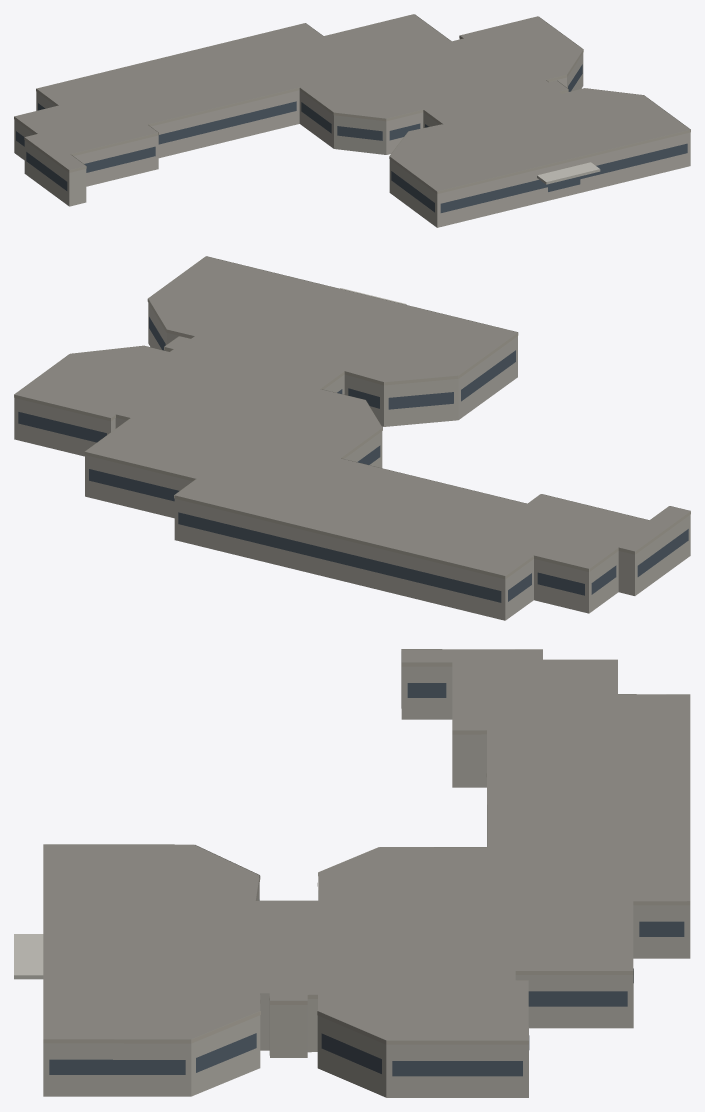
File: institutional-nlr-bo225177098.glb
The picture shows the model from 3 angles, top to bottom: view 1: azimuth 30°, elevation 25°; view 2: azimuth 150°, elevation 25°; view 3: azimuth 270°, elevation 25°; orthographic projection. The views are drawn at different scales.
Visible parts, largest first — view 1: institutional_nlr_bo225177098; view 2: institutional_nlr_bo225177098; view 3: institutional_nlr_bo225177098.
Part boxes in pixels (box(x1,y1,x2,y2)): institutional_nlr_bo225177098: box(14, 14, 690, 227); institutional_nlr_bo225177098: box(14, 256, 690, 620); institutional_nlr_bo225177098: box(14, 649, 690, 1097).
Size of the model in its own units: 94.62 by 6.46 by 69.12.
